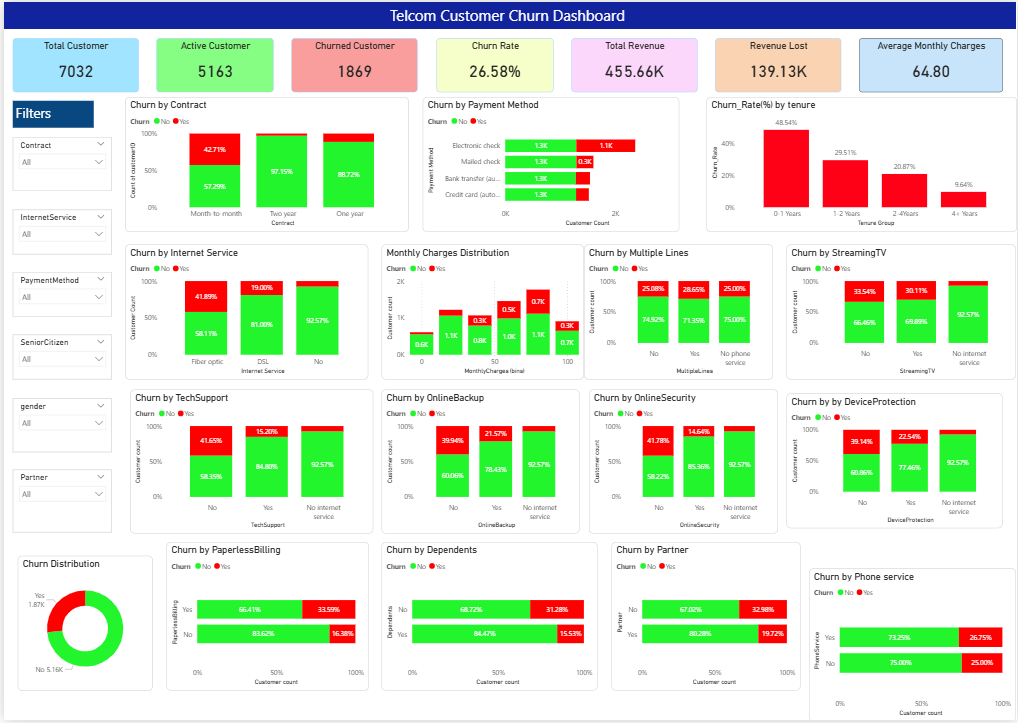

The dashboard page shown, as its layout file describes it:
{"tool":"powerbi","page":{"name":"Page 1","canvas":[1800,1278],"ordinal":0},"visuals":[{"type":"textbox","box":[-8,0,1808,48],"z":0},{"type":"card","title":"Total Customer","fields":{"Values":["Telco_Cusomer_Churn.Total_Customer"]},"box":[16,64,224,96],"z":1000},{"type":"card","title":"Churn Rate","fields":{"Values":["Telco_Cusomer_Churn.Churn_Rate"]},"box":[768,64,208,96],"z":2000},{"type":"card","title":"Churned Customer","fields":{"Values":["Telco_Cusomer_Churn.Churned_Customer"]},"box":[512,64,224,96],"z":3000},{"type":"card","title":"Revenue Lost","fields":{"Values":["Telco_Cusomer_Churn.Revenue_Loss"]},"box":[1264,64,224,96],"z":4000},{"type":"card","title":"Active Customer","fields":{"Values":["Telco_Cusomer_Churn.Active_Customer"]},"box":[272,64,208,96],"z":5000},{"type":"card","title":"Total Revenue","fields":{"Values":["Telco_Cusomer_Churn.Total_Revenue"]},"box":[1008,64,224,96],"z":6000},{"type":"card","title":"Average Monthly Charges","fields":{"Values":["Telco_Cusomer_Churn.Avg_Monthly_Charges"]},"box":[1520,64,256,96],"z":7000},{"type":"columnChart","title":" Churn by  Contract ","fields":{"Series":["Telco_Cusomer_Churn.Churn"],"Category":["Telco_Cusomer_Churn.Contract"],"Y":["CountNonNull(Telco_Cusomer_Churn.customerID)"]},"box":[208,176,512,224],"z":8000},{"type":"barChart","title":"Churn by Payment Method","fields":{"Series":["Telco_Cusomer_Churn.Churn"],"Category":["Telco_Cusomer_Churn.PaymentMethod"],"Y":["CountNonNull(Telco_Cusomer_Churn.customerID)"]},"box":[720,176,496,224],"z":9000},{"type":"donutChart","title":"Churn Distribution","fields":{"Category":["Telco_Cusomer_Churn.Churn"],"Y":["CountNonNull(Telco_Cusomer_Churn.Churn)"]},"box":[24,984,240,240],"z":10000},{"type":"columnChart","title":"Churn_Rate(%) by tenure ","fields":{"Category":["Telco_Cusomer_Churn.Tenure Group"],"Y":["Telco_Cusomer_Churn.Churn_Rate"]},"box":[1256,176,544,224],"z":11000},{"type":"hundredPercentStackedColumnChart","title":"Churn by Internet Service","fields":{"Category":["Telco_Cusomer_Churn.InternetService"],"Series":["Telco_Cusomer_Churn.Churn"],"Y":["CountNonNull(Telco_Cusomer_Churn.customerID)"]},"box":[224,416,432,240],"z":12000},{"type":"slicer","fields":{"Values":["Telco_Cusomer_Churn.Contract"]},"box":[16,240,176,96],"z":13000},{"type":"textbox","box":[16,176,144,48],"z":14000},{"type":"slicer","fields":{"Values":["Telco_Cusomer_Churn.InternetService"]},"box":[16,368,176,80],"z":15000},{"type":"slicer","fields":{"Values":["Telco_Cusomer_Churn.PaymentMethod"]},"box":[16,480,176,80],"z":16000},{"type":"columnChart","title":"Monthly Charges Distribution","fields":{"Y":["CountNonNull(Telco_Cusomer_Churn.customerID)"],"Category":["Telco_Cusomer_Churn.MonthlyCharges (bins)"],"Series":["Telco_Cusomer_Churn.Churn"]},"box":[672,416,352,240],"z":17000},{"type":"slicer","fields":{"Values":["Telco_Cusomer_Churn.SeniorCitizen"]},"box":[16,592,176,80],"z":18000},{"type":"slicer","fields":{"Values":["Telco_Cusomer_Churn.gender"]},"box":[16,704,176,96],"z":19000},{"type":"hundredPercentStackedColumnChart","title":"Churn by Multiple Lines","fields":{"Category":["Telco_Cusomer_Churn.MultipleLines"],"Series":["Telco_Cusomer_Churn.Churn"],"Y":["CountNonNull(Telco_Cusomer_Churn.customerID)"]},"box":[1040,416,336,240],"z":20000},{"type":"hundredPercentStackedColumnChart","title":" Churn by StreamingTV ","fields":{"Category":["Telco_Cusomer_Churn.StreamingTV"],"Series":["Telco_Cusomer_Churn.Churn"],"Y":["CountNonNull(Telco_Cusomer_Churn.customerID)"]},"box":[1400,416,400,240],"z":21000},{"type":"hundredPercentStackedColumnChart","title":"Churn by TechSupport ","fields":{"Y":["CountNonNull(Telco_Cusomer_Churn.customerID)"],"Series":["Telco_Cusomer_Churn.Churn"],"Category":["Telco_Cusomer_Churn.TechSupport"]},"box":[224,688,432,256],"z":22000},{"type":"hundredPercentStackedColumnChart","title":"Churn by OnlineBackup","fields":{"Category":["Telco_Cusomer_Churn.OnlineBackup"],"Y":["CountNonNull(Telco_Cusomer_Churn.customerID)"],"Series":["Telco_Cusomer_Churn.Churn"]},"box":[672,688,352,256],"z":23000},{"type":"hundredPercentStackedColumnChart","title":"Churn by OnlineSecurity","fields":{"Category":["Telco_Cusomer_Churn.OnlineSecurity"],"Y":["CountNonNull(Telco_Cusomer_Churn.customerID)"],"Series":["Telco_Cusomer_Churn.Churn"]},"box":[1040,688,336,256],"z":24000},{"type":"hundredPercentStackedColumnChart","title":"Churn by Dependents","fields":{"Category":["Telco_Cusomer_Churn.Dependents"],"Series":["Telco_Cusomer_Churn.Churn"],"Y":["CountNonNull(Telco_Cusomer_Churn.customerID)"]},"box":[1408,688,384,256],"z":25000},{"type":"hundredPercentStackedColumnChart","title":"Churn by PaperlessBilling ","fields":{"Y":["CountNonNull(Telco_Cusomer_Churn.customerID)"],"Category":["Telco_Cusomer_Churn.PaperlessBilling"],"Series":["Telco_Cusomer_Churn.Churn"]},"box":[288,984,360,240],"z":26000},{"type":"hundredPercentStackedColumnChart","title":"Churn by  by DeviceProtection ","fields":{"Category":["Telco_Cusomer_Churn.DeviceProtection"],"Series":["Telco_Cusomer_Churn.Churn"],"Y":["CountNonNull(Telco_Cusomer_Churn.customerID)"]},"box":[672,976,352,256],"z":27000},{"type":"hundredPercentStackedColumnChart","title":"Churn by  Partner ","fields":{"Category":["Telco_Cusomer_Churn.Partner"],"Series":["Telco_Cusomer_Churn.Churn"],"Y":["CountNonNull(Telco_Cusomer_Churn.customerID)"]},"box":[1040,976,336,256],"z":28000},{"type":"hundredPercentStackedColumnChart","title":"Churn by Phone service","fields":{"Category":["Telco_Cusomer_Churn.PhoneService"],"Y":["CountNonNull(Telco_Cusomer_Churn.customerID)"],"Series":["Telco_Cusomer_Churn.Churn"]},"box":[1408,976,384,256],"z":29000},{"type":"slicer","fields":{"Values":["Telco_Cusomer_Churn.Partner"]},"box":[16,832,176,112],"z":29001}]}

Visuals, with their boxes in screenshot pixels (x1, y1, x2, y2), scaled from the page's 1800x1278 canvas onto the 1018x723 screenshot:
textbox: detection(0, 0, 1017, 27)
"Total Customer" card: detection(9, 36, 136, 91)
"Churn Rate" card: detection(434, 36, 552, 91)
"Churned Customer" card: detection(290, 36, 416, 91)
"Revenue Lost" card: detection(715, 36, 842, 91)
"Active Customer" card: detection(154, 36, 271, 91)
"Total Revenue" card: detection(570, 36, 697, 91)
"Average Monthly Charges" card: detection(860, 36, 1004, 91)
" Churn by  Contract " columnChart: detection(118, 100, 407, 226)
"Churn by Payment Method" barChart: detection(407, 100, 688, 226)
"Churn Distribution" donutChart: detection(14, 557, 149, 692)
"Churn_Rate(%) by tenure " columnChart: detection(710, 100, 1017, 226)
"Churn by Internet Service" hundredPercentStackedColumnChart: detection(127, 235, 371, 371)
slicer - Telco_Cusomer_Churn.Contract: detection(9, 136, 109, 190)
textbox: detection(9, 100, 90, 127)
slicer - Telco_Cusomer_Churn.InternetService: detection(9, 208, 109, 253)
slicer - Telco_Cusomer_Churn.PaymentMethod: detection(9, 272, 109, 317)
"Monthly Charges Distribution" columnChart: detection(380, 235, 579, 371)
slicer - Telco_Cusomer_Churn.SeniorCitizen: detection(9, 335, 109, 380)
slicer - Telco_Cusomer_Churn.gender: detection(9, 398, 109, 453)
"Churn by Multiple Lines" hundredPercentStackedColumnChart: detection(588, 235, 778, 371)
" Churn by StreamingTV " hundredPercentStackedColumnChart: detection(792, 235, 1017, 371)
"Churn by TechSupport " hundredPercentStackedColumnChart: detection(127, 389, 371, 534)
"Churn by OnlineBackup" hundredPercentStackedColumnChart: detection(380, 389, 579, 534)
"Churn by OnlineSecurity" hundredPercentStackedColumnChart: detection(588, 389, 778, 534)
"Churn by Dependents" hundredPercentStackedColumnChart: detection(796, 389, 1013, 534)
"Churn by PaperlessBilling " hundredPercentStackedColumnChart: detection(163, 557, 366, 692)
"Churn by  by DeviceProtection " hundredPercentStackedColumnChart: detection(380, 552, 579, 697)
"Churn by  Partner " hundredPercentStackedColumnChart: detection(588, 552, 778, 697)
"Churn by Phone service" hundredPercentStackedColumnChart: detection(796, 552, 1013, 697)
slicer - Telco_Cusomer_Churn.Partner: detection(9, 471, 109, 534)
